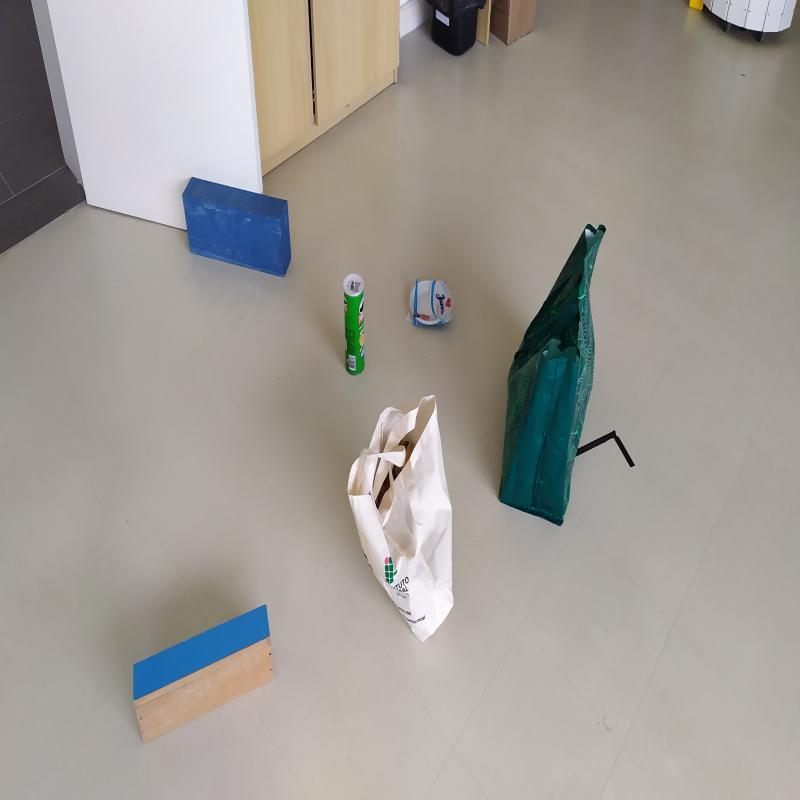Bag: (497, 219, 608, 530), (348, 388, 456, 644)
Plate: (409, 276, 453, 328)
Pringles: (344, 271, 366, 376)
